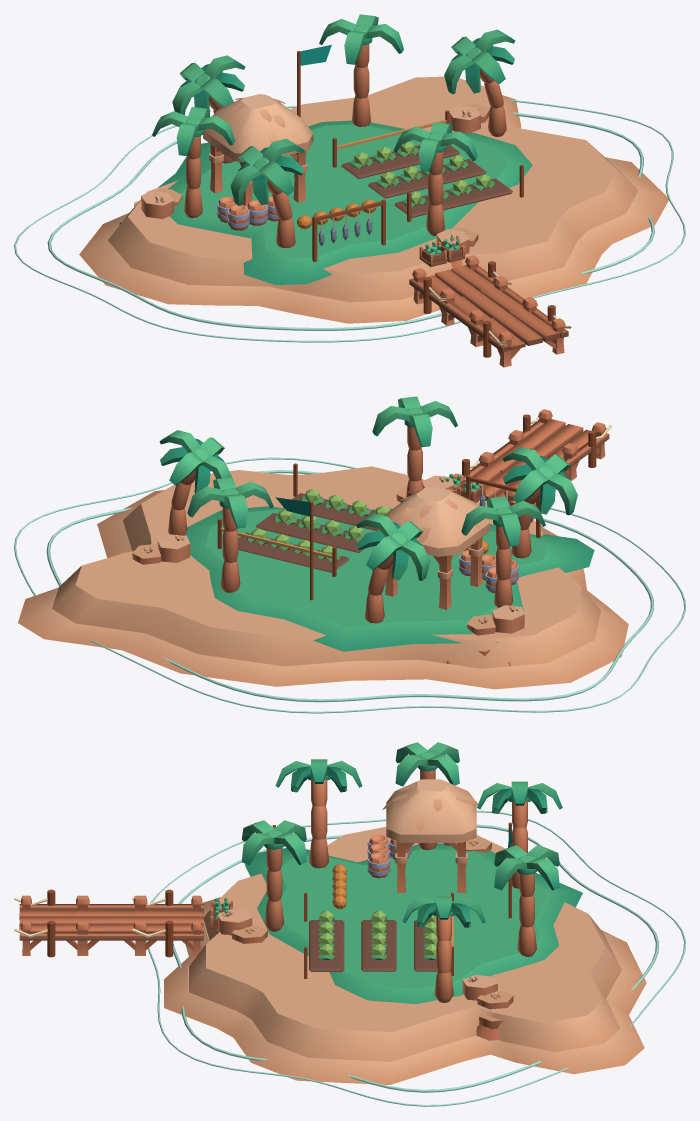
Rendered from food.glb.
3 views of the same model, one above another, from view 1: azimuth 30°, elevation 25°; view 2: azimuth 150°, elevation 25°; view 3: azimuth 270°, elevation 25° (orthographic). The views are drawn at different scales.
Visible parts, largest first — view 1: Beach • sandy silhouette, Island ground cover, Wet sand shelf, structure-roof.001, palm-detailed-bend.003, palm-detailed-bend.001, Dock • pier 2, palm-straight.001, palm-straight.003, Shore foam, palm-straight.002, palm-detailed-bend.002 (+9 smaller); view 2: Beach • sandy silhouette, Island ground cover, Wet sand shelf, structure-roof.001, palm-detailed-bend.002, palm-detailed-bend.003, palm-detailed-bend.001, palm-straight.001, Shore foam, palm-straight.002, Shore foam.001, palm-straight.003 (+8 smaller); view 3: Beach • sandy silhouette, Island ground cover, Wet sand shelf, structure-roof.001, palm-straight.001, palm-straight.003, palm-detailed-bend.003, palm-detailed-bend.001, Dock • pier 0, Dock • pier 1, Dock • pier 2, palm-detailed-bend.002 (+8 smaller).
Boxes of the visible parts, bbox=[...] form: Beach • sandy silhouette: bbox=[108, 76, 638, 302]; Island ground cover: bbox=[136, 120, 532, 284]; Wet sand shelf: bbox=[79, 95, 668, 323]; structure-roof.001: bbox=[203, 94, 313, 205]; palm-detailed-bend.003: bbox=[230, 138, 304, 247]; palm-detailed-bend.001: bbox=[444, 29, 515, 136]; Dock • pier 2: bbox=[469, 298, 568, 367]; palm-straight.001: bbox=[319, 14, 403, 126]; palm-straight.003: bbox=[393, 122, 477, 235]; Shore foam: bbox=[47, 112, 654, 330]; palm-straight.002: bbox=[152, 107, 234, 218]; palm-detailed-bend.002: bbox=[172, 55, 245, 163]; Beach • sandy silhouette: bbox=[52, 466, 600, 668]; Island ground cover: bbox=[185, 506, 594, 651]; Wet sand shelf: bbox=[18, 490, 628, 689]; structure-roof.001: bbox=[378, 486, 489, 609]; palm-detailed-bend.002: bbox=[356, 513, 430, 623]; palm-detailed-bend.003: bbox=[502, 447, 577, 558]; palm-detailed-bend.001: bbox=[159, 430, 231, 535]; palm-straight.001: bbox=[187, 477, 273, 592]; Shore foam: bbox=[46, 470, 653, 702]; palm-straight.002: bbox=[461, 496, 545, 607]; Shore foam.001: bbox=[14, 457, 685, 713]; palm-straight.003: bbox=[372, 396, 457, 496]; Beach • sandy silhouette: bbox=[189, 826, 621, 1061]; Island ground cover: bbox=[245, 843, 582, 1003]; Wet sand shelf: bbox=[164, 897, 646, 1084]; structure-roof.001: bbox=[382, 779, 477, 892]; palm-straight.001: bbox=[494, 845, 559, 956]; palm-straight.003: bbox=[241, 820, 306, 931]; palm-detailed-bend.003: bbox=[275, 759, 362, 868]; palm-detailed-bend.001: bbox=[402, 896, 485, 1002]; Dock • pier 0: bbox=[134, 895, 203, 955]; Dock • pier 1: bbox=[77, 895, 145, 955]; Dock • pier 2: bbox=[19, 895, 87, 955]; palm-detailed-bend.002: bbox=[477, 781, 562, 888].
Bounding box in the file's own units: 26.64 × 5.77 × 25.63.
Materials: 19 (9 with a texture image).
